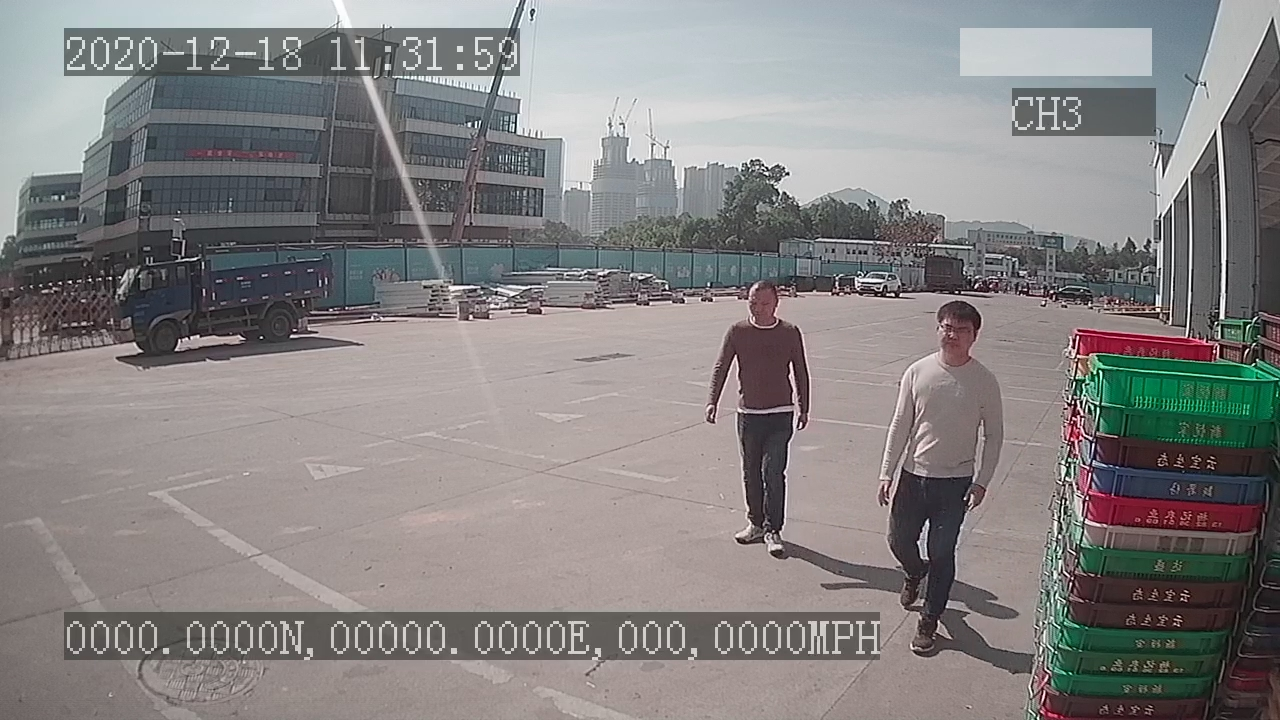person: (876, 298, 1008, 658), (701, 280, 815, 552)
